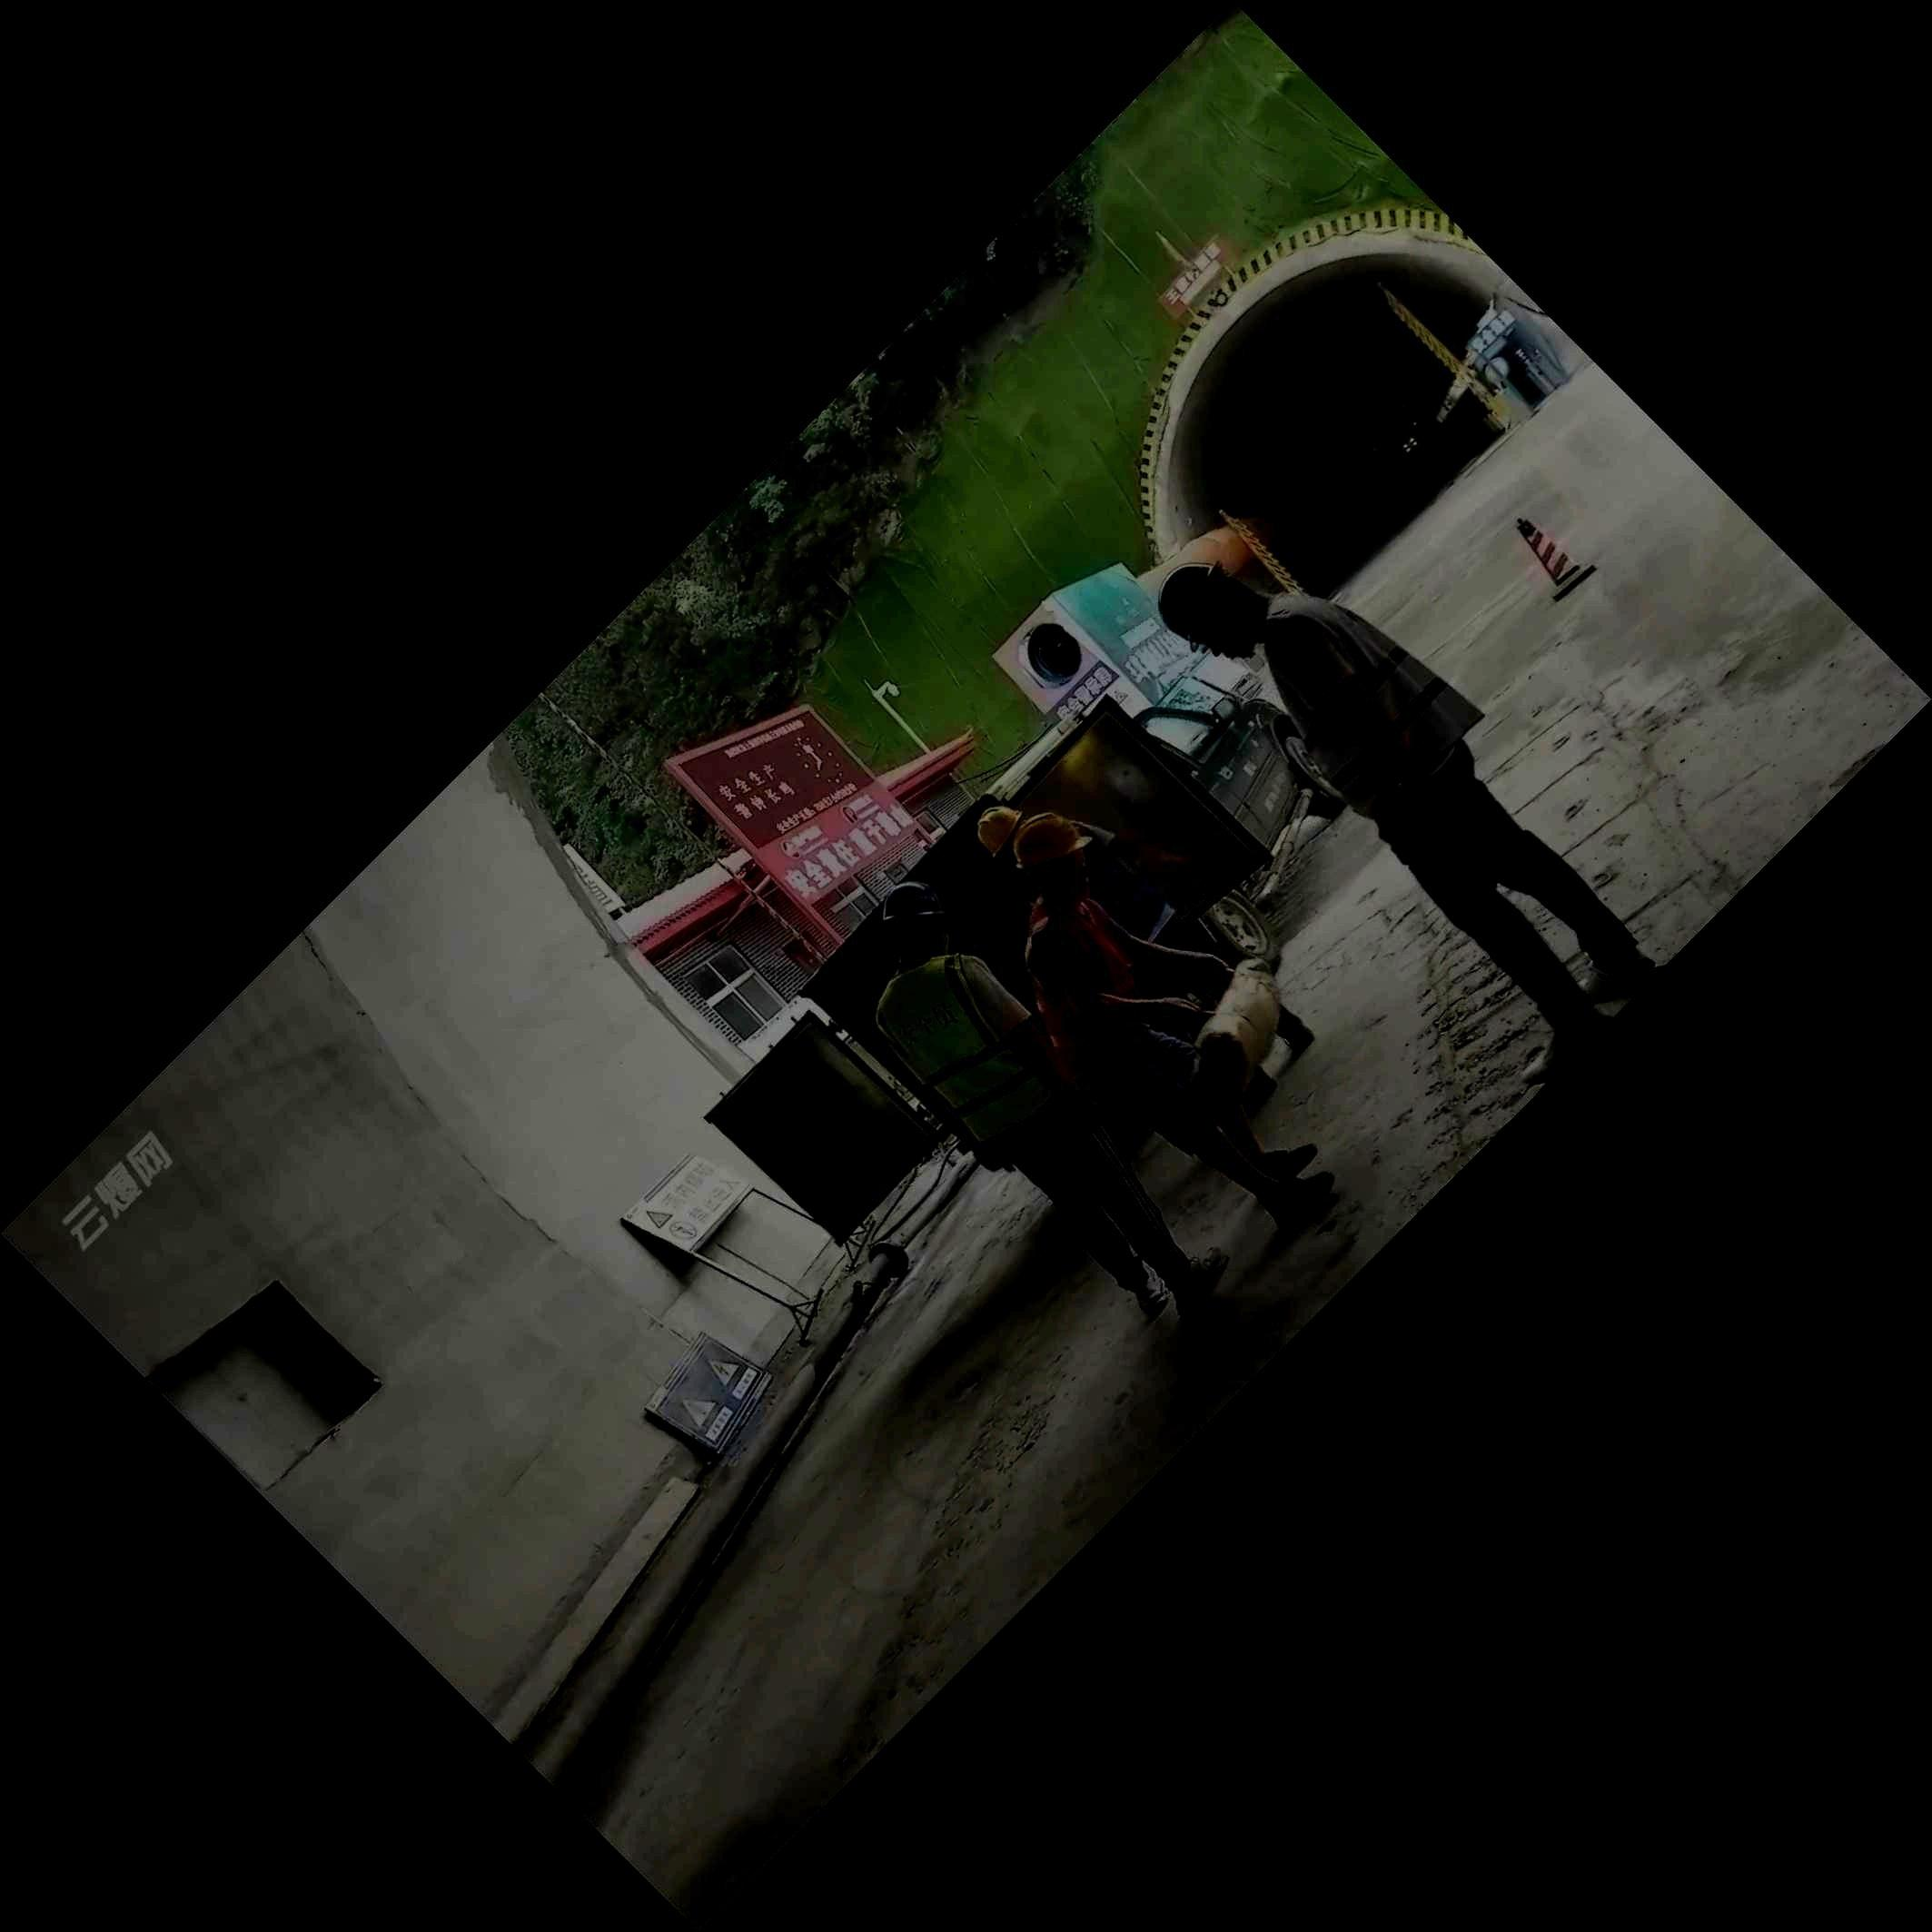helmet: (1159, 559, 1260, 660), (1012, 812, 1092, 895), (881, 879, 943, 957), (977, 805, 1023, 858)
